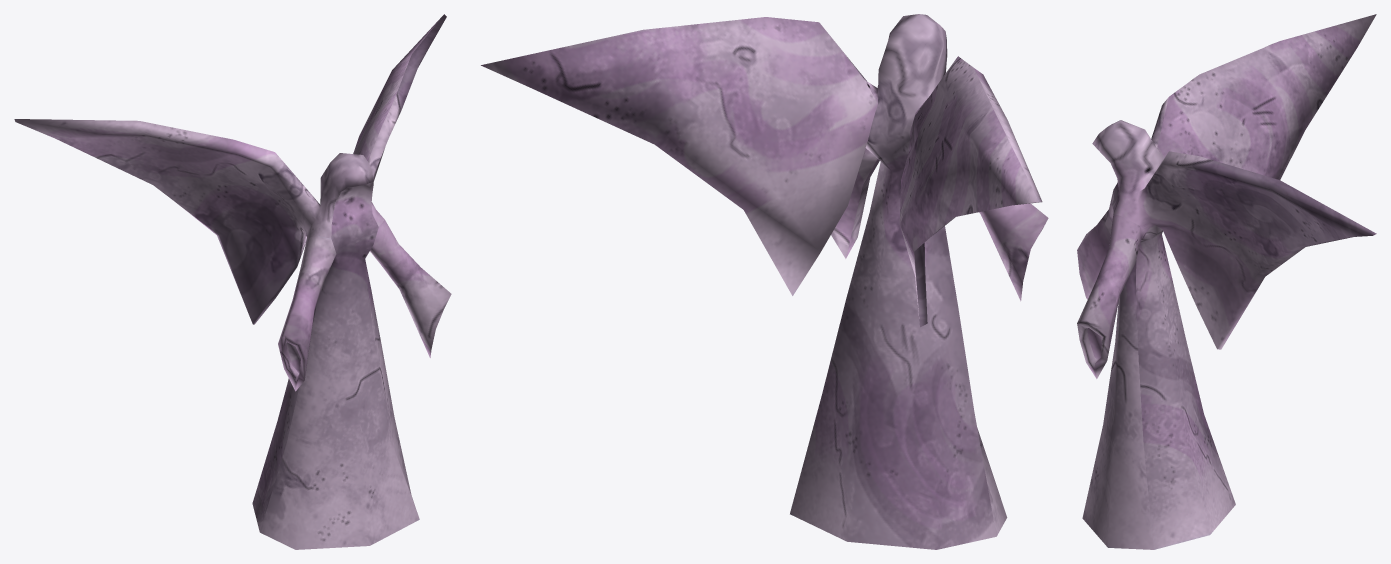
The model's file is angel.glb.
The picture shows the model from 3 angles, left to right: view 1: azimuth 30°, elevation 25°; view 2: azimuth 150°, elevation 25°; view 3: azimuth 270°, elevation 25°; orthographic projection. The views are drawn at different scales.
Visible parts, largest first — view 1: Angel; view 2: Angel; view 3: Angel.
Part boxes in pixels (x1,y1,x2,y2): Angel: (14,14,451,549); Angel: (481,14,1048,549); Angel: (1077,14,1376,549).
Size of the model in its own units: 7.94 by 6.85 by 4.56.
Materials: 1 (1 with a texture image).
